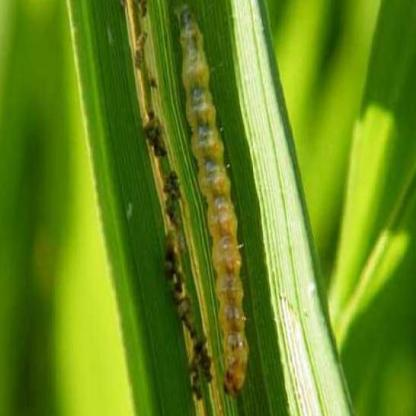leaf-folder: (152, 13, 258, 380)
